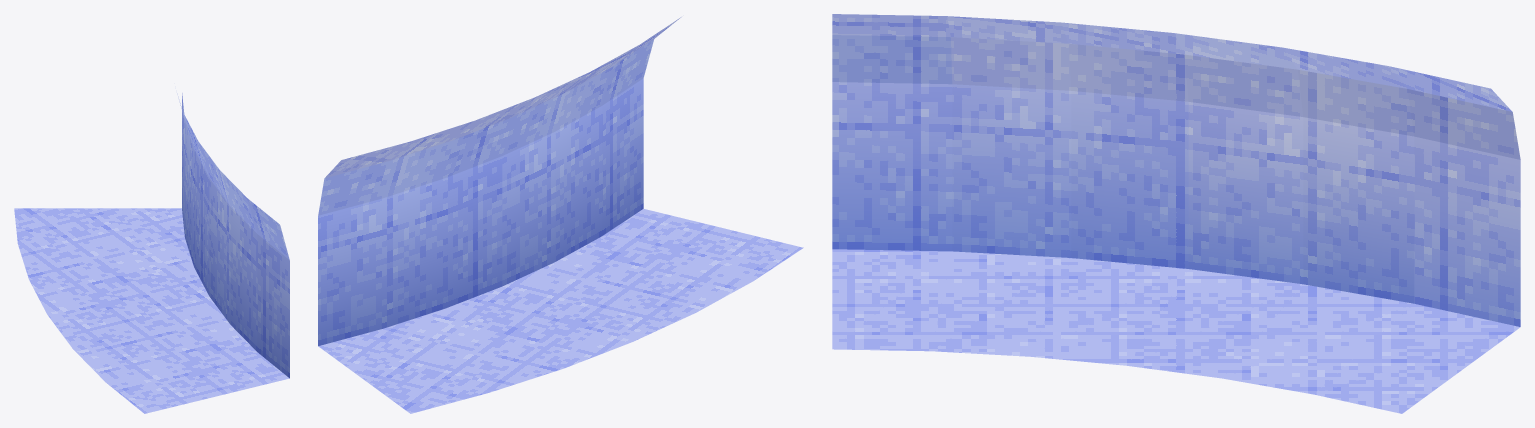
File: arch.corridor.glb
The picture shows the model from 3 angles, left to right: view 1: azimuth 30°, elevation 25°; view 2: azimuth 150°, elevation 25°; view 3: azimuth 270°, elevation 25°; orthographic projection. The views are drawn at different scales.
Visible parts, largest first — view 1: kit_shell_corridor_floor, kit_shell_corridor_walls; view 2: kit_shell_corridor_walls, kit_shell_corridor_floor; view 3: kit_shell_corridor_walls, kit_shell_corridor_floor.
Boxes of the visible parts, box(x1,y1,x2,y2) form: kit_shell_corridor_floor: box(14, 208, 289, 413); kit_shell_corridor_walls: box(177, 93, 289, 378); kit_shell_corridor_walls: box(318, 17, 681, 346); kit_shell_corridor_floor: box(318, 208, 803, 413); kit_shell_corridor_walls: box(832, 14, 1520, 326); kit_shell_corridor_floor: box(832, 249, 1520, 413).
Bounding box in the file's own units: 2.96 × 2.3 × 5.22.
Materials: 2 (2 with a texture image).
